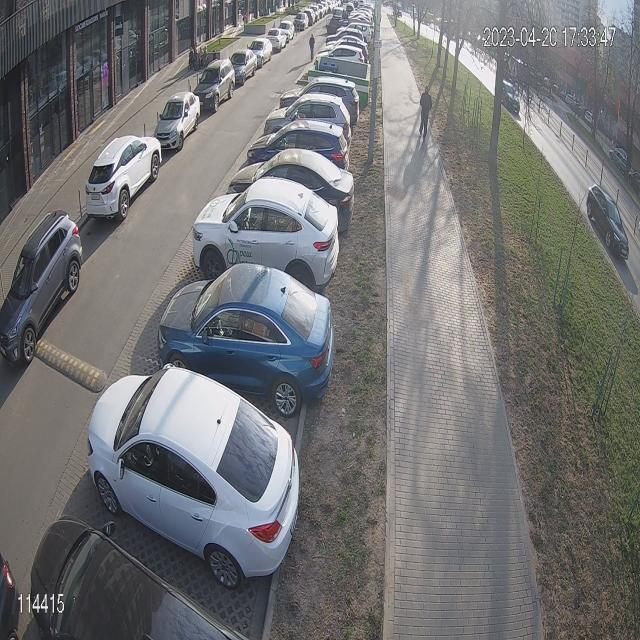person: (418, 84, 432, 142)
